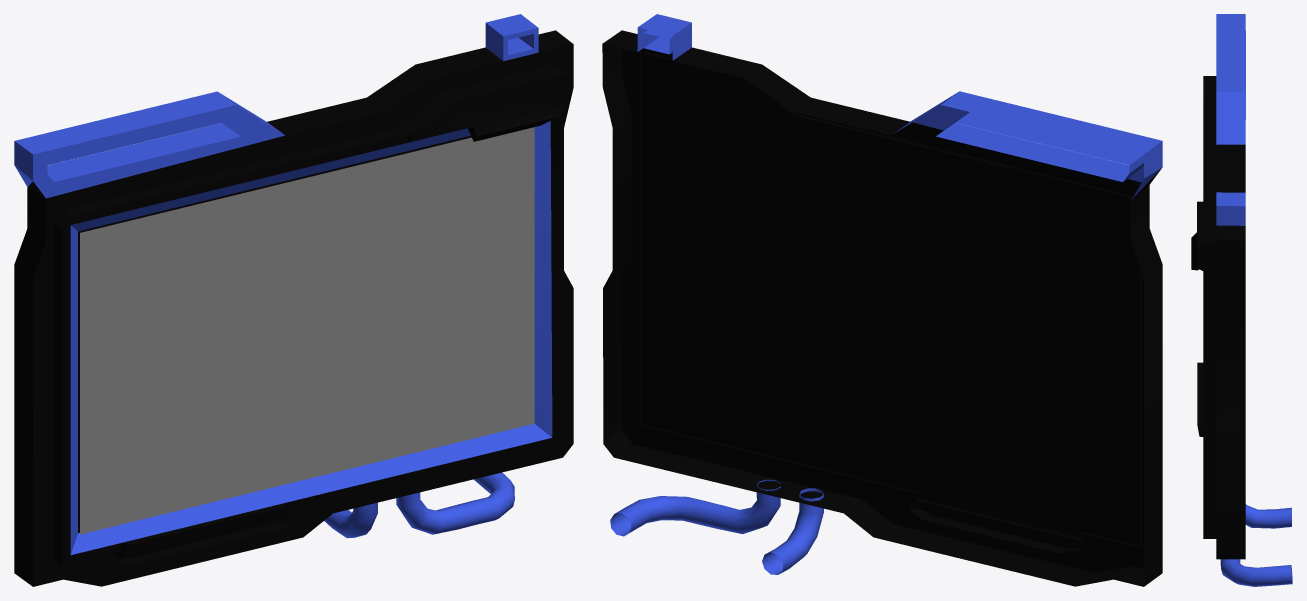
File: ekran.fbx
3 renders of one model, left to right at view 1: azimuth 30°, elevation 25°; view 2: azimuth 150°, elevation 25°; view 3: azimuth 270°, elevation 25°, orthographic. The views are drawn at different scales.
Parts seen in each view (by area): view 1: Ekran; view 2: Ekran; view 3: Ekran.
Boxes of the visible parts, x1,y1,x2,y2 form: Ekran: (14, 14, 573, 586); Ekran: (602, 14, 1162, 586); Ekran: (1191, 14, 1292, 586).
Size of the model in its own units: 155 by 134 by 31.99.
